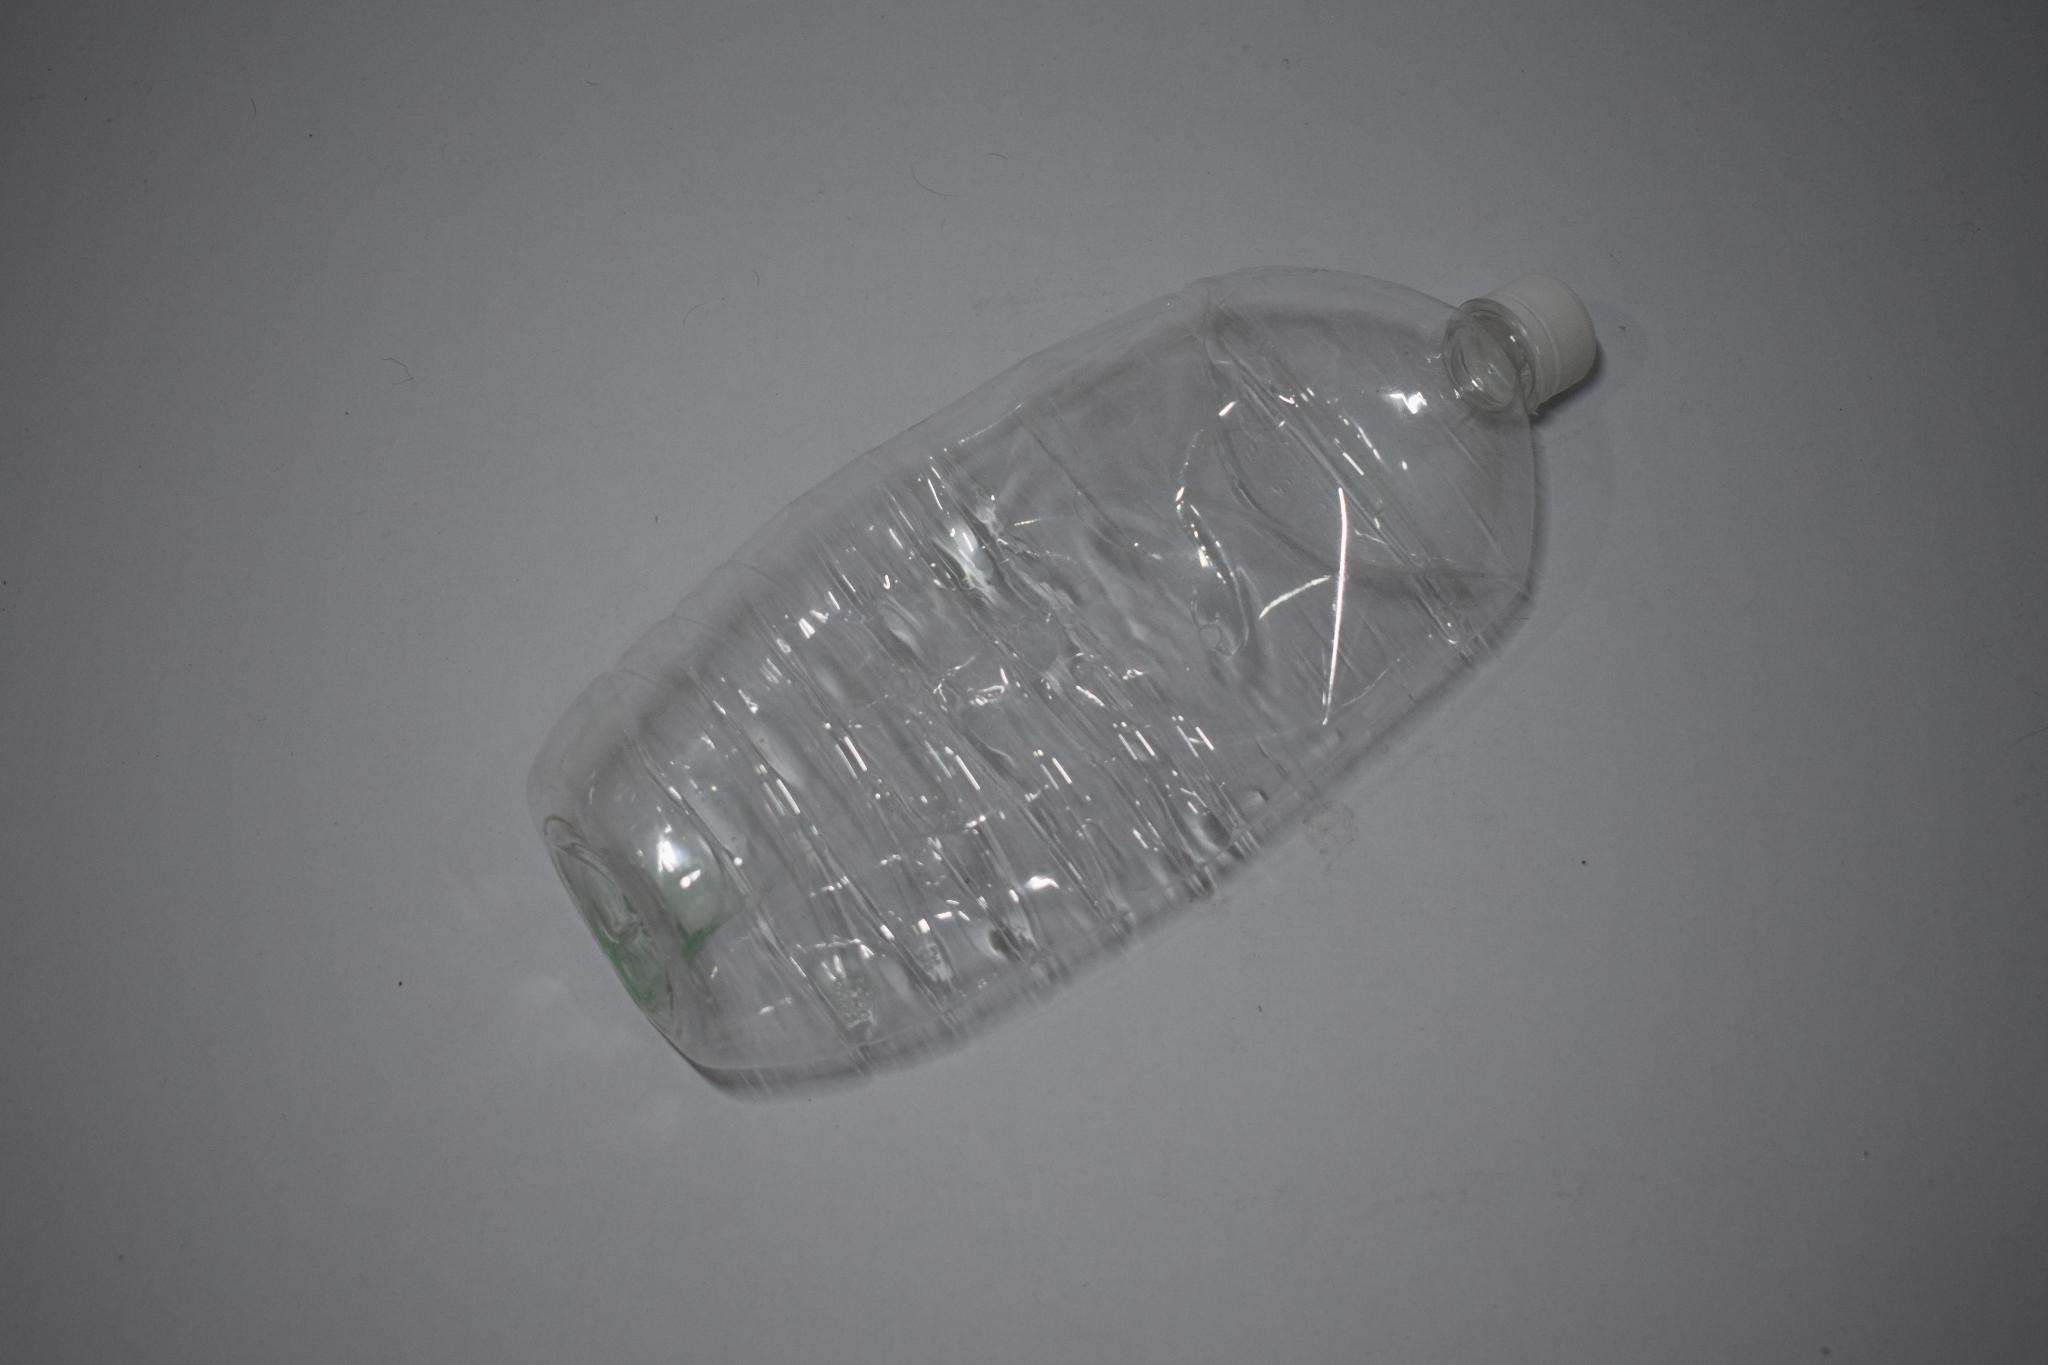bottle: (525, 216, 1724, 1100)
